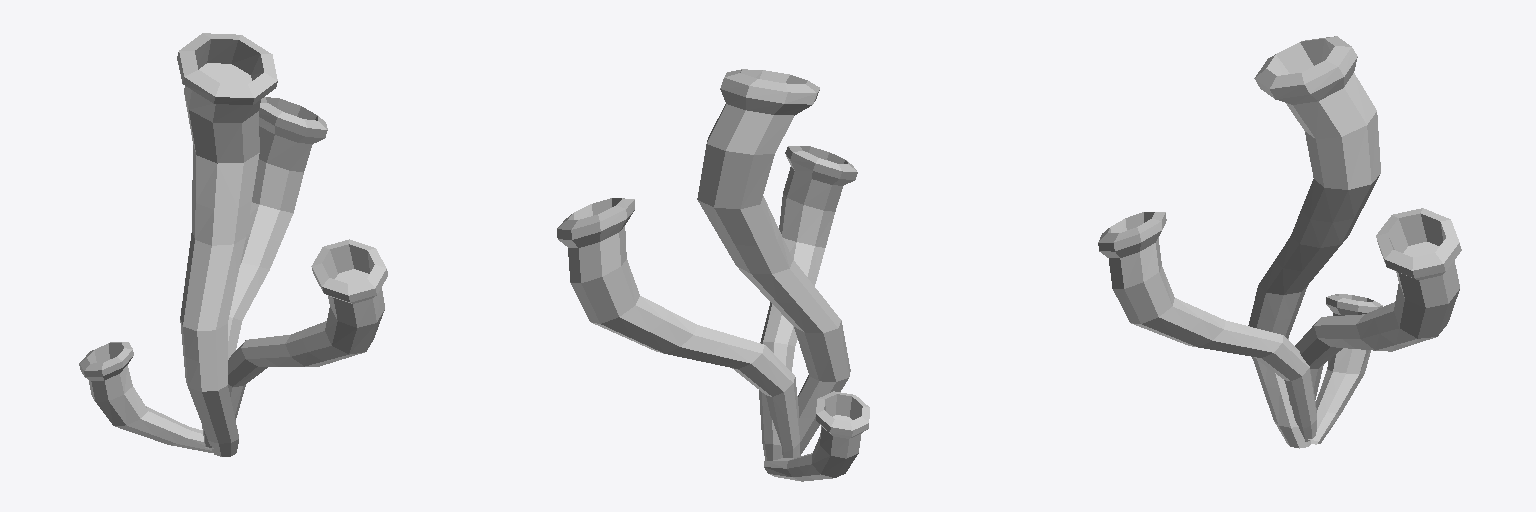
Rendered from kelp 5.obj.
The picture shows the model from 3 angles: view 1: azimuth 30°, elevation 25°; view 2: azimuth 150°, elevation 25°; view 3: azimuth 270°, elevation 25°; orthographic projection.
Visible parts, largest first — view 1: node_id61; view 2: node_id61; view 3: node_id61.
Part boxes in pixels (x1,y1,x2,y2): node_id61: (79, 33, 387, 456); node_id61: (557, 69, 869, 481); node_id61: (1098, 36, 1461, 448).
Size of the model in its own units: 2 by 2.82 by 2.31.